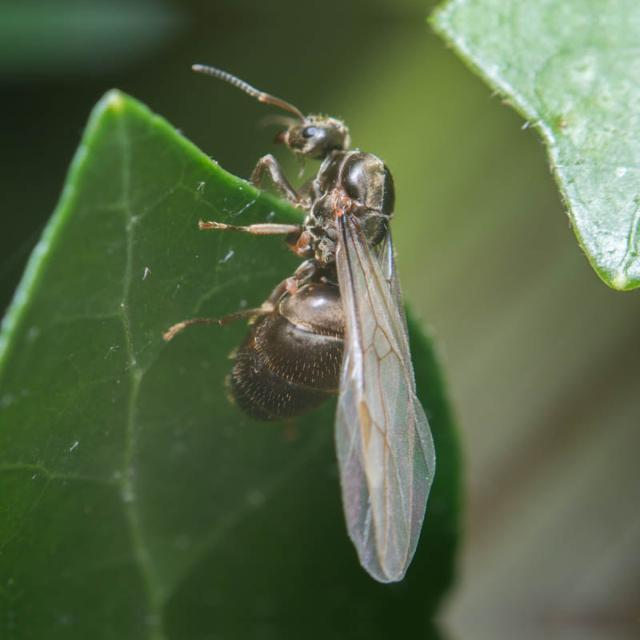Lasius: (180, 51, 488, 586)
